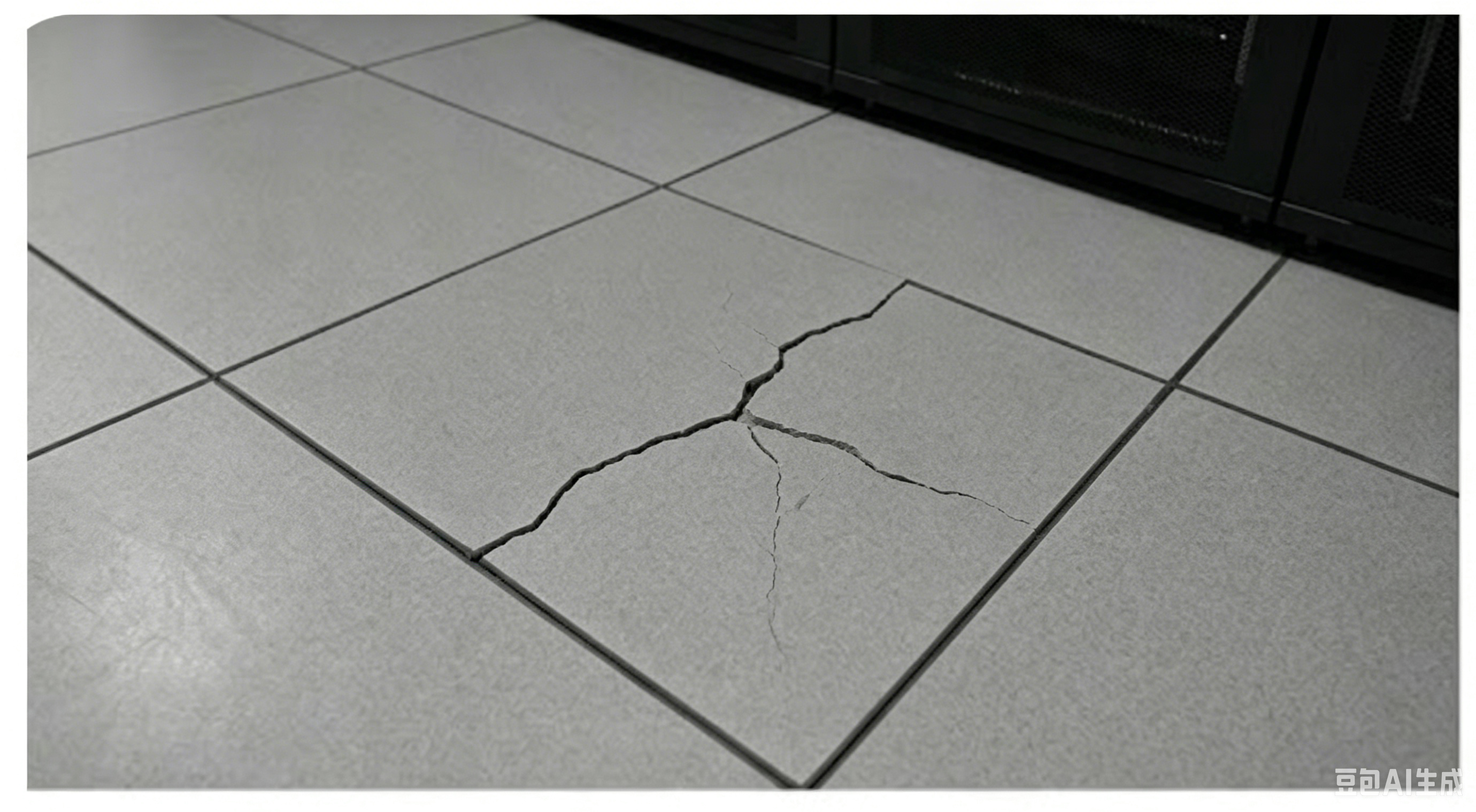floor_defect: (805, 422, 1032, 528), (739, 412, 799, 660), (459, 463, 599, 563), (559, 410, 742, 466), (718, 352, 812, 412), (762, 309, 880, 353), (846, 268, 920, 312)
